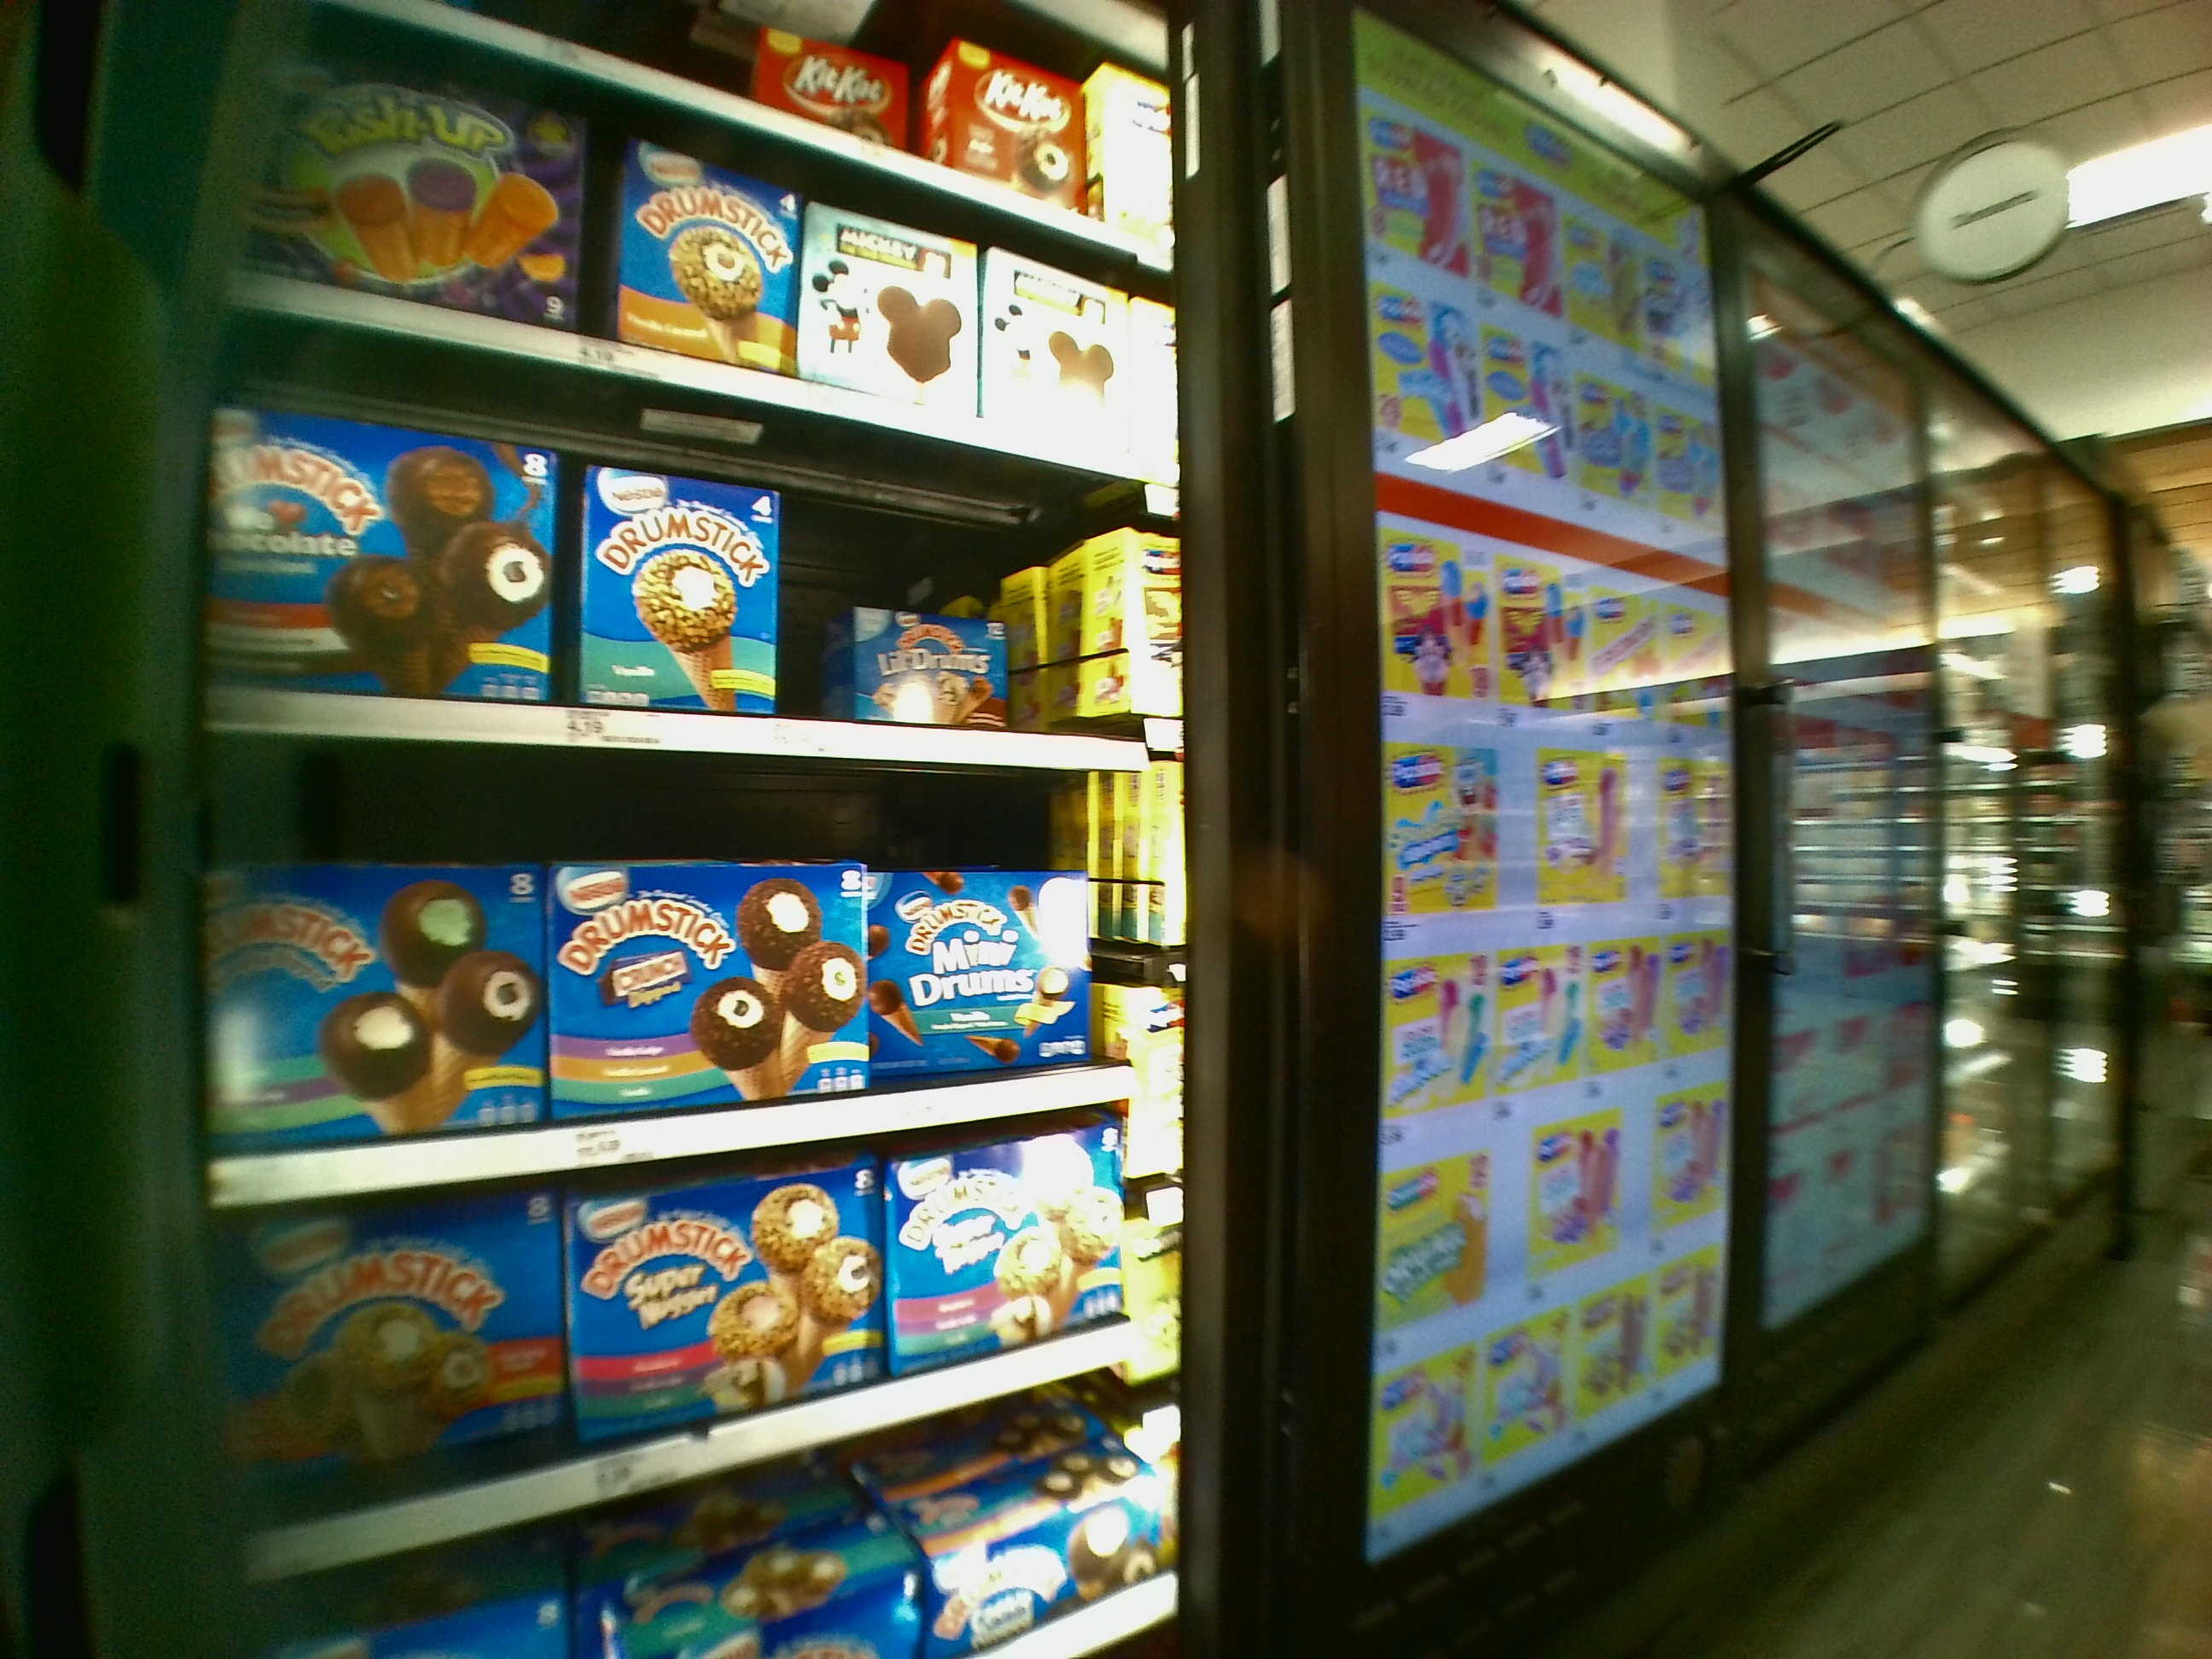shelf: (211, 741, 1167, 1108), (230, 1119, 1186, 1450), (209, 444, 1167, 760)
